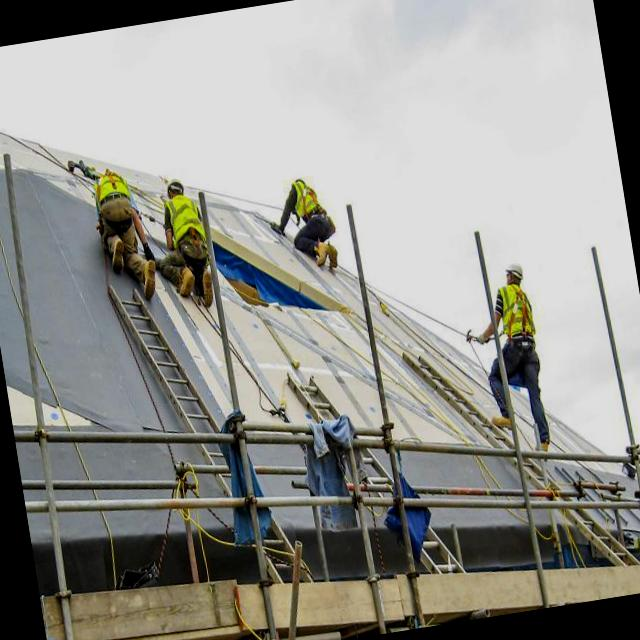boots: (138, 259, 161, 302), (173, 265, 198, 300), (200, 271, 220, 307), (108, 238, 129, 272), (492, 409, 516, 434), (326, 244, 344, 270), (314, 244, 332, 268)
helmet: (162, 172, 188, 198), (506, 259, 527, 280)
vest: (492, 283, 540, 343), (162, 194, 210, 250), (90, 172, 135, 208), (284, 182, 326, 218)
